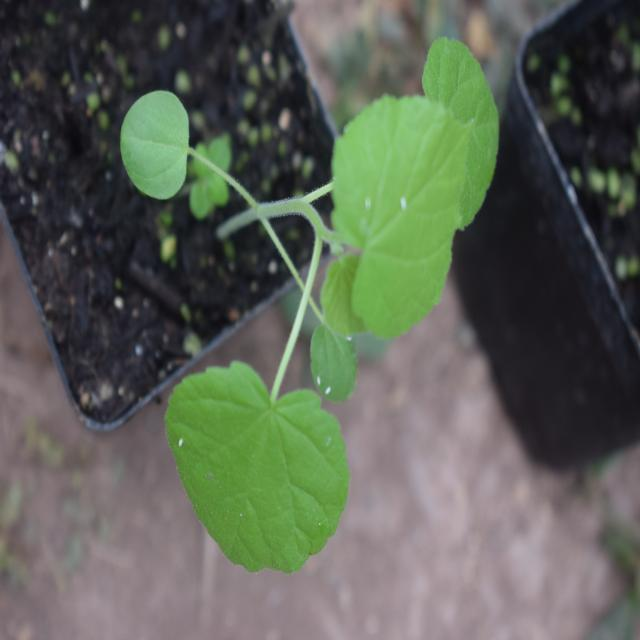abutilon theophrasti: (140, 40, 503, 552)
